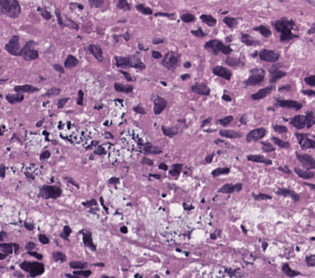nucleus: (272, 18, 297, 41), (114, 53, 144, 69), (204, 39, 231, 54), (161, 51, 180, 70), (244, 68, 264, 85), (295, 133, 314, 149), (276, 188, 299, 201), (251, 86, 273, 99), (39, 185, 61, 198), (246, 127, 266, 141), (276, 99, 301, 110), (258, 49, 279, 62), (296, 153, 314, 168), (212, 66, 231, 80), (81, 230, 94, 249), (218, 183, 242, 193), (88, 44, 102, 61), (153, 96, 166, 114), (241, 33, 259, 45), (191, 83, 209, 95), (143, 142, 161, 154), (247, 155, 271, 164), (294, 167, 313, 178), (161, 125, 178, 137), (225, 56, 243, 67), (219, 129, 241, 138), (63, 16, 78, 29), (290, 115, 305, 128), (200, 14, 216, 26), (269, 70, 285, 82), (64, 55, 78, 68), (114, 82, 132, 92), (254, 25, 270, 36), (135, 4, 152, 14), (272, 137, 289, 147), (169, 163, 182, 176), (223, 16, 237, 28), (42, 87, 60, 96), (304, 111, 314, 127), (38, 7, 51, 19), (212, 167, 229, 176), (261, 141, 274, 152), (218, 115, 232, 125), (55, 9, 63, 26), (117, 0, 130, 10), (120, 70, 133, 80), (65, 177, 78, 187), (61, 226, 71, 239), (180, 13, 194, 22), (191, 28, 205, 37), (269, 63, 281, 73), (273, 125, 287, 133), (304, 75, 314, 86), (57, 97, 68, 107), (133, 105, 145, 114), (76, 90, 83, 105), (83, 199, 96, 207), (253, 193, 270, 199), (53, 64, 64, 73), (89, 0, 103, 7), (141, 157, 153, 165), (154, 12, 173, 17), (40, 150, 50, 159), (278, 166, 290, 173), (201, 117, 210, 126), (39, 234, 48, 243), (95, 146, 105, 154), (152, 50, 161, 58), (302, 89, 314, 95), (205, 153, 213, 162), (108, 177, 118, 184), (159, 163, 167, 170), (152, 38, 163, 43), (279, 85, 290, 90), (308, 24, 314, 33), (222, 94, 231, 100), (240, 114, 246, 123), (304, 183, 314, 188), (139, 44, 147, 50), (181, 74, 189, 79), (184, 204, 192, 209), (184, 61, 190, 67), (150, 174, 159, 178), (120, 226, 126, 232), (178, 119, 185, 123), (211, 234, 215, 238), (263, 243, 266, 248)
